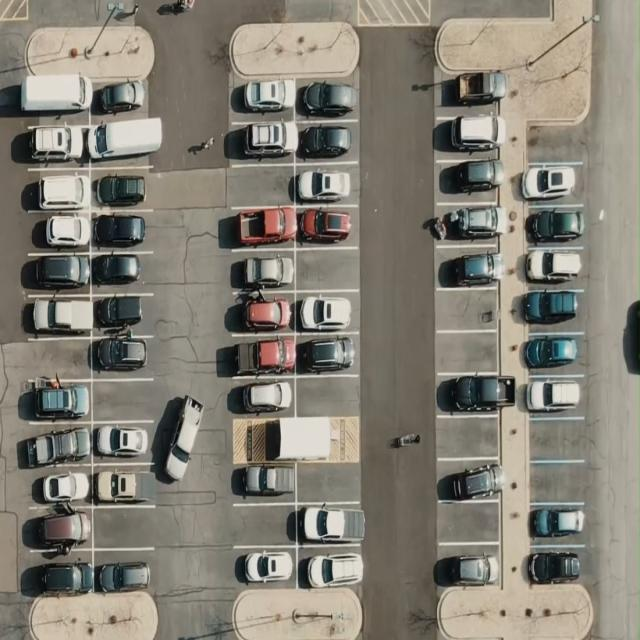space-empty: (91, 378, 164, 421), (24, 337, 92, 382), (228, 502, 296, 547), (439, 416, 508, 460), (436, 329, 500, 376), (225, 164, 293, 208), (436, 286, 500, 332), (296, 374, 359, 419), (93, 506, 160, 548), (436, 502, 501, 545), (524, 418, 589, 461), (295, 247, 359, 290), (295, 461, 358, 504), (527, 462, 588, 502), (530, 120, 588, 162)
space-occupied: (88, 114, 162, 166), (20, 116, 89, 169), (20, 420, 91, 470), (23, 289, 90, 338), (297, 498, 362, 548), (27, 550, 94, 598), (436, 201, 502, 249), (28, 375, 92, 424), (436, 372, 504, 418), (519, 245, 588, 290), (228, 248, 295, 294), (228, 118, 296, 163), (92, 462, 160, 507), (228, 334, 296, 379), (436, 158, 504, 203), (25, 166, 90, 213), (227, 205, 294, 250), (520, 159, 584, 206), (26, 508, 94, 552), (228, 544, 296, 588), (293, 161, 359, 206), (434, 245, 500, 290), (295, 288, 358, 335), (294, 204, 358, 249), (90, 164, 154, 209), (523, 206, 589, 249), (523, 332, 587, 376), (438, 460, 502, 504), (90, 250, 154, 294), (230, 288, 296, 330), (94, 550, 154, 596), (300, 550, 364, 593), (230, 78, 294, 121), (233, 462, 296, 505), (520, 288, 583, 331), (29, 210, 92, 253), (527, 502, 587, 547), (91, 210, 155, 252), (92, 292, 156, 334), (91, 420, 152, 464), (436, 550, 502, 590), (296, 334, 357, 377), (297, 78, 358, 121), (92, 335, 153, 378), (524, 374, 586, 415), (298, 122, 358, 164), (22, 471, 92, 507), (26, 254, 94, 291), (439, 70, 500, 110), (526, 546, 584, 586), (24, 83, 90, 118), (443, 122, 499, 161), (233, 381, 294, 412), (91, 85, 151, 115)
